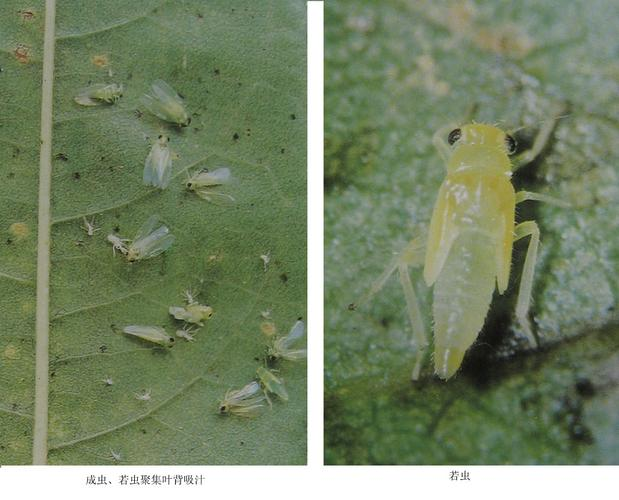Cicadellidae: (371, 104, 575, 382), (127, 213, 175, 266), (140, 79, 190, 125), (218, 380, 265, 424), (142, 134, 176, 194), (265, 321, 306, 365), (69, 79, 127, 110), (255, 362, 290, 409), (121, 321, 173, 349), (184, 166, 229, 192), (170, 301, 212, 324), (175, 323, 200, 345), (80, 214, 100, 238), (105, 236, 130, 253), (258, 249, 275, 272), (129, 387, 155, 401), (107, 438, 122, 461), (178, 287, 198, 304), (257, 308, 273, 320), (101, 374, 114, 385)
